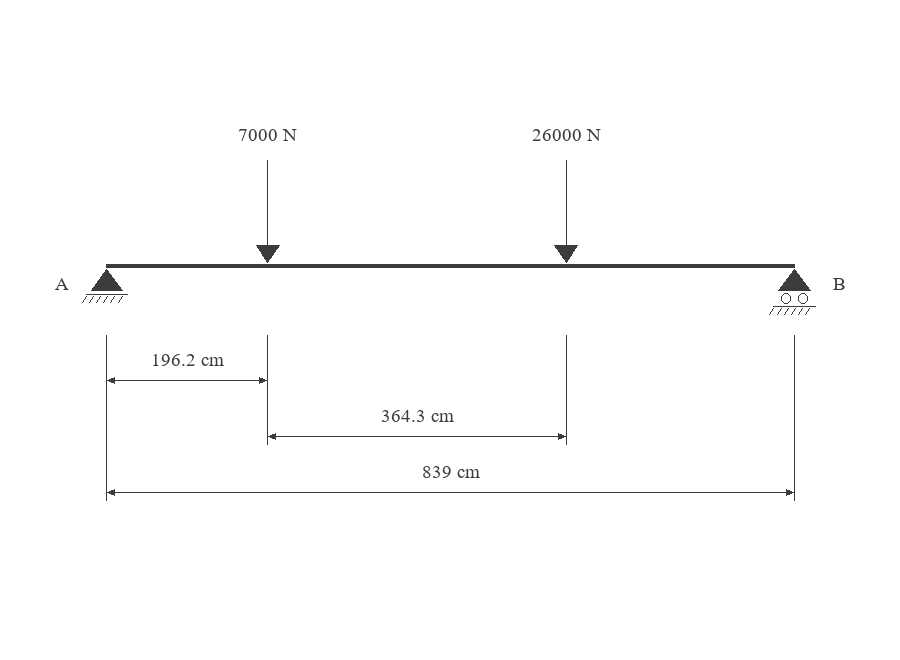pin_support: (82, 269, 128, 303)
point_load: (256, 160, 280, 263), (554, 160, 578, 263)
roller_support: (769, 269, 816, 315)
